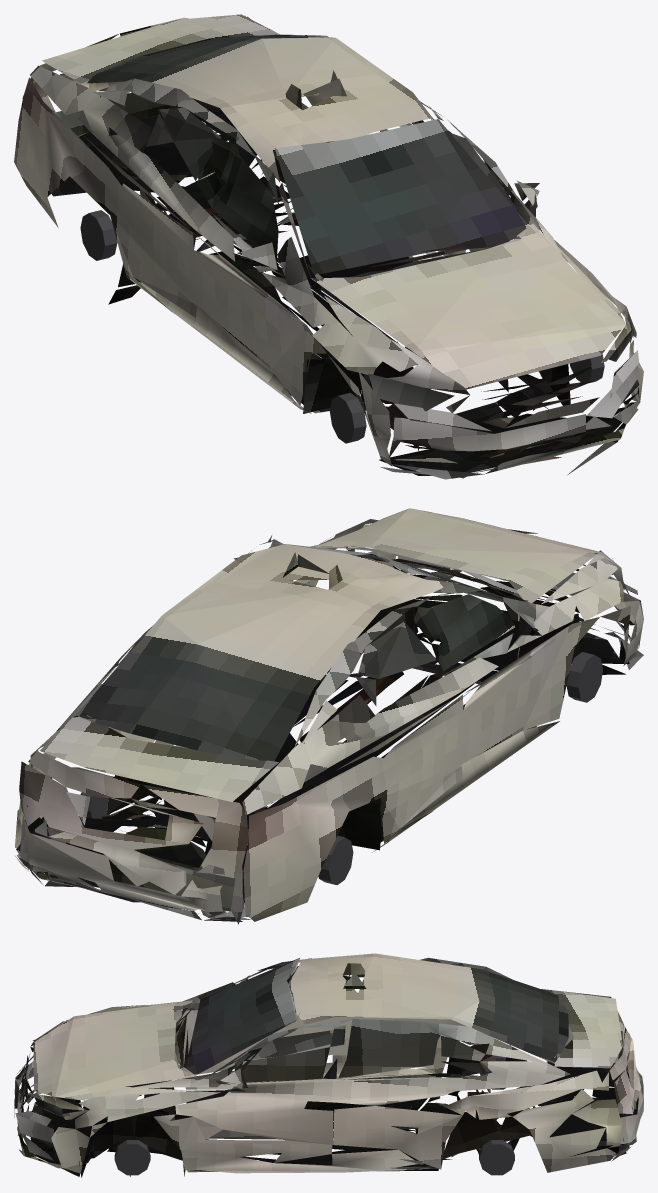
Rendered from taxi_f.glb.
3 renders of one model, top to bottom at view 1: azimuth 30°, elevation 25°; view 2: azimuth 150°, elevation 25°; view 3: azimuth 270°, elevation 25°, orthographic. The views are drawn at different scales.
Visible parts, largest first — view 1: karosserie, rad_hl; view 2: karosserie, rad_hl; view 3: karosserie, rad_hl.
Boxes of the visible parts, x1,y1,x2,y2 form: karosserie: [14, 14, 643, 479]; rad_hl: [80, 210, 604, 443]; karosserie: [15, 508, 643, 924]; rad_hl: [80, 652, 602, 885]; karosserie: [14, 953, 643, 1177]; rad_hl: [114, 1055, 514, 1175].
Bounding box in the file's own units: 1.99 × 1.61 × 4.81.
Materials: 2 (1 with a texture image).
